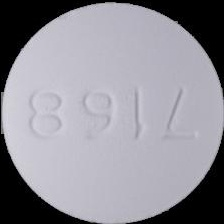0093-7168: (0, 0, 224, 224)
